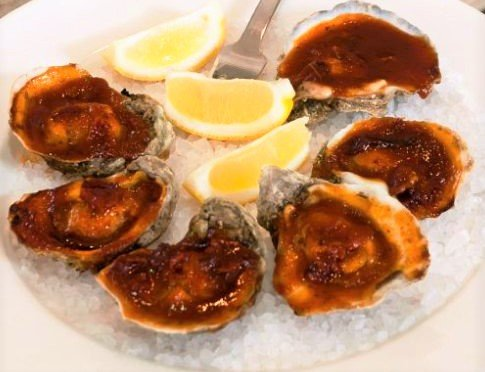taco: (201, 116, 313, 205), (162, 71, 296, 144), (106, 4, 227, 83)
